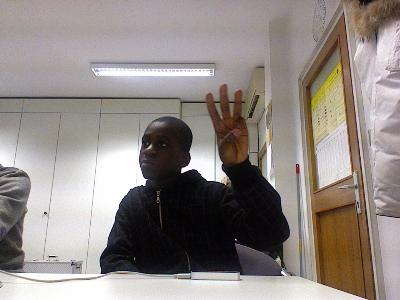三分: (204, 81, 249, 167)
